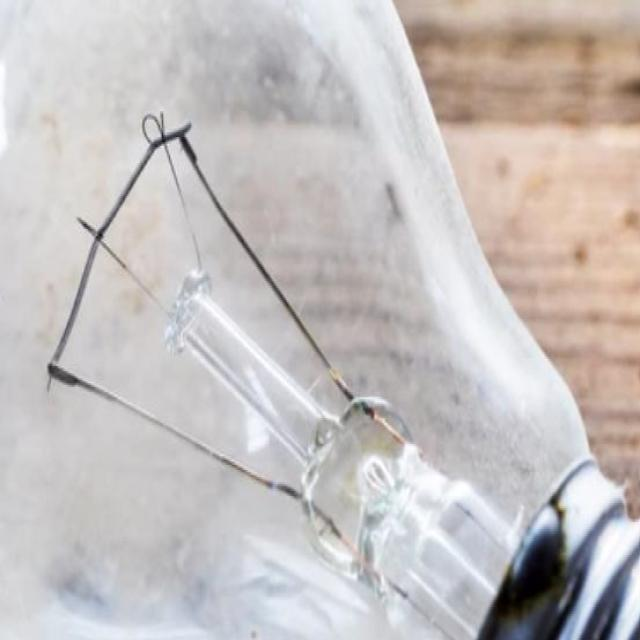electronic: (0, 0, 639, 638), (163, 266, 523, 638)
